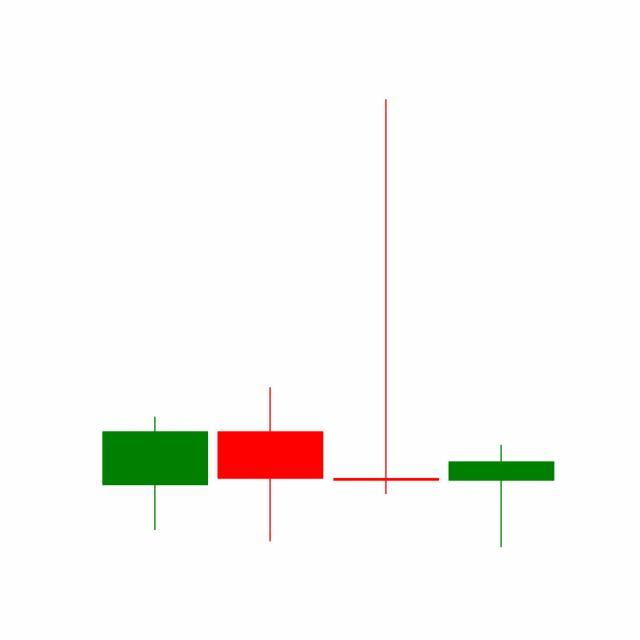Spinning Top: (329, 95, 445, 499)
